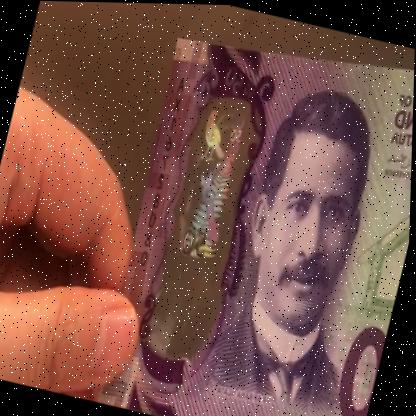50F: (152, 96, 257, 343)
